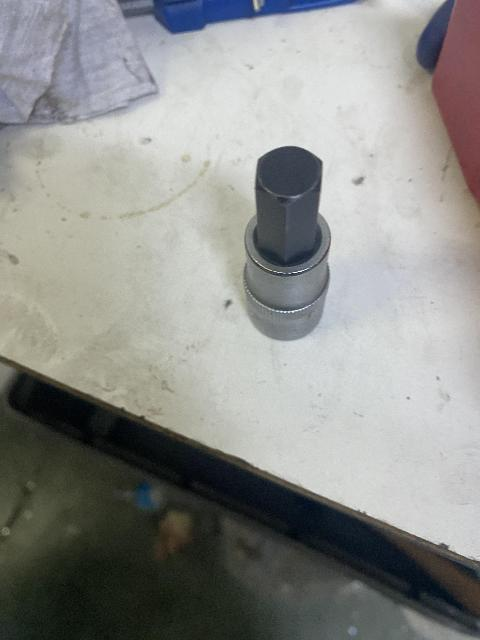Metal: (243, 146, 332, 341)
